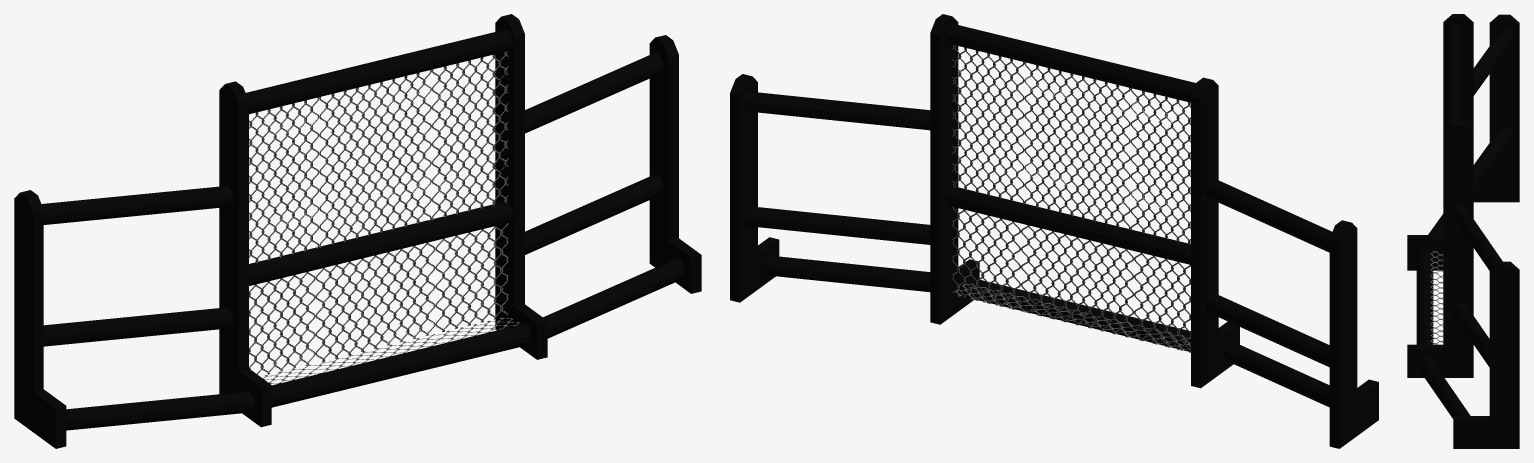
The picture shows the model from 3 angles, left to right: view 1: azimuth 30°, elevation 25°; view 2: azimuth 150°, elevation 25°; view 3: azimuth 270°, elevation 25°; orthographic projection. The views are drawn at different scales.
Parts seen in each view (by area): view 1: pCube15; view 2: pCube15; view 3: pCube15.
Boxes of the visible parts, x1,y1,x2,y2 form: pCube15: (14,14,701,448); pCube15: (730,14,1378,448); pCube15: (1407,14,1519,448).
Bounding box in the file's own units: 0.08 × 0.0375 × 0.0152.
